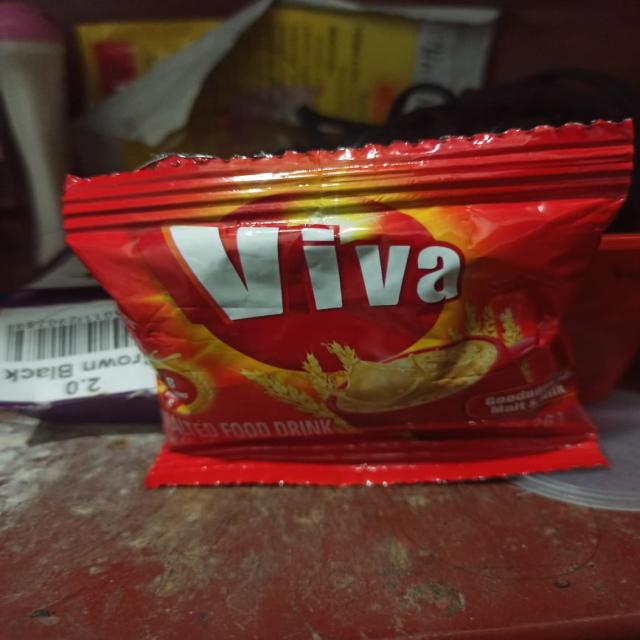Viva Malt: (33, 148, 640, 530)
